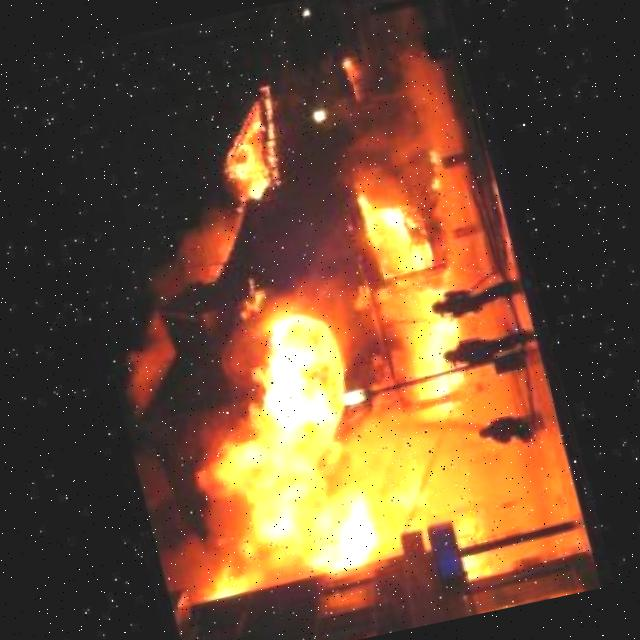fire: (315, 165, 540, 592), (128, 303, 390, 616), (191, 69, 305, 215)
